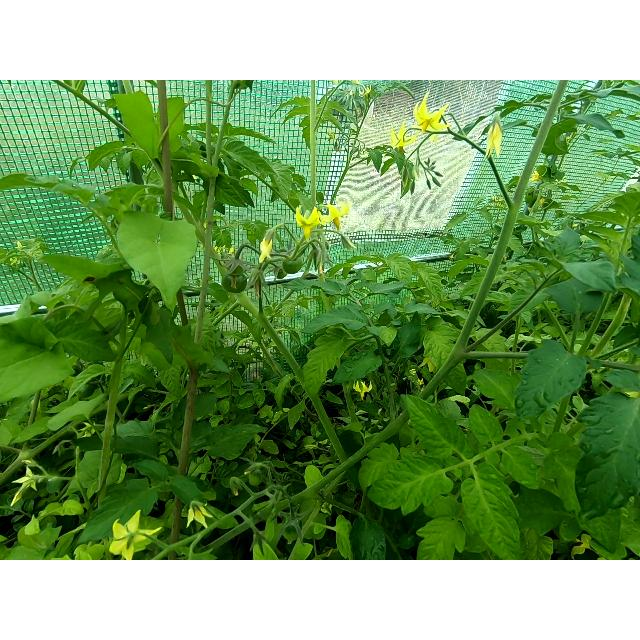Flowers: (108, 508, 162, 560), (410, 91, 452, 145), (8, 456, 48, 506), (293, 206, 329, 244), (384, 122, 418, 152), (484, 113, 504, 159), (183, 500, 215, 528), (328, 199, 352, 231), (256, 231, 276, 263), (352, 378, 373, 400), (408, 368, 424, 386), (212, 246, 235, 256), (529, 171, 539, 183), (16, 240, 22, 250)
